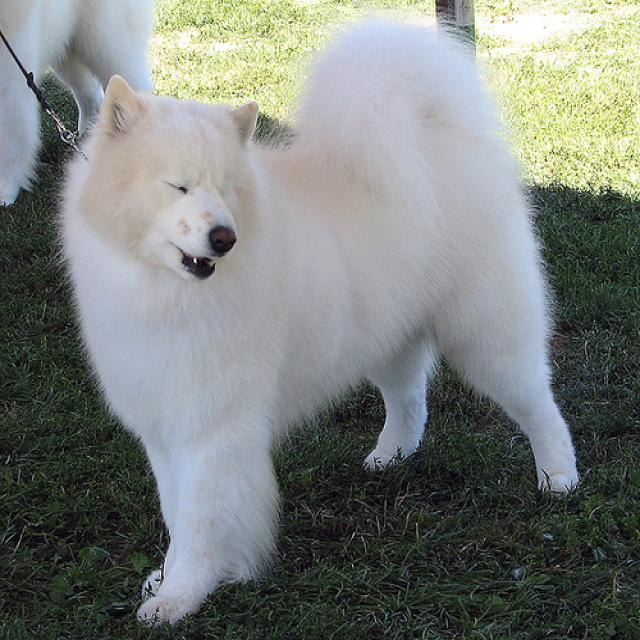dog-samoyed: (1, 1, 582, 633)
